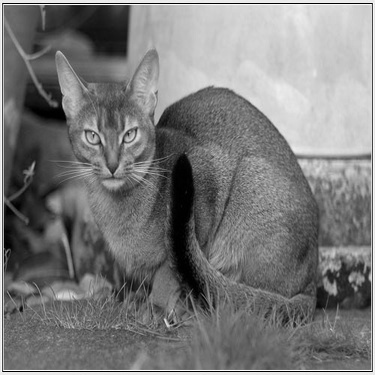cat: (48, 47, 320, 324)
